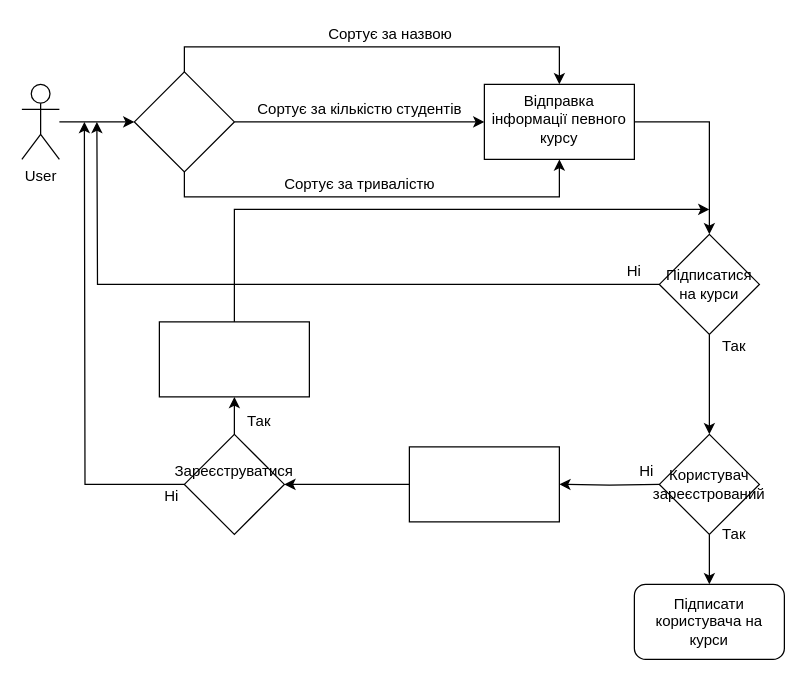
Image size: 806x681. Some labels were removed from this diagram. Each missing label, with the box of its shape:
Авторизація: (158, 321, 309, 397)
Перегляд курсів: (133, 71, 234, 172)
Повідомити про помилку та перенаправити на сторінку реєстрації: (408, 446, 559, 522)
